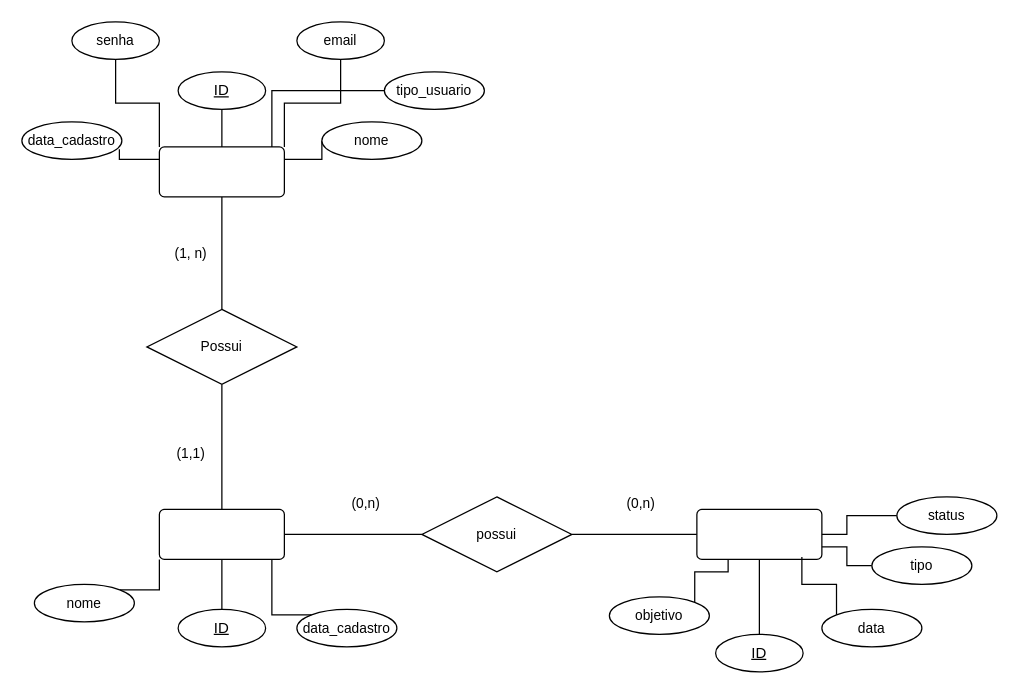
Some shapes in this 1019 by 694 pixel diagram are drawn without their labels. The centre of each missing label's shape, as x and y in pixels:
"Atividades" goes at pixel 759 533.
"Grupos" goes at pixel 221 533.
"Usuarios" goes at pixel 221 171.
